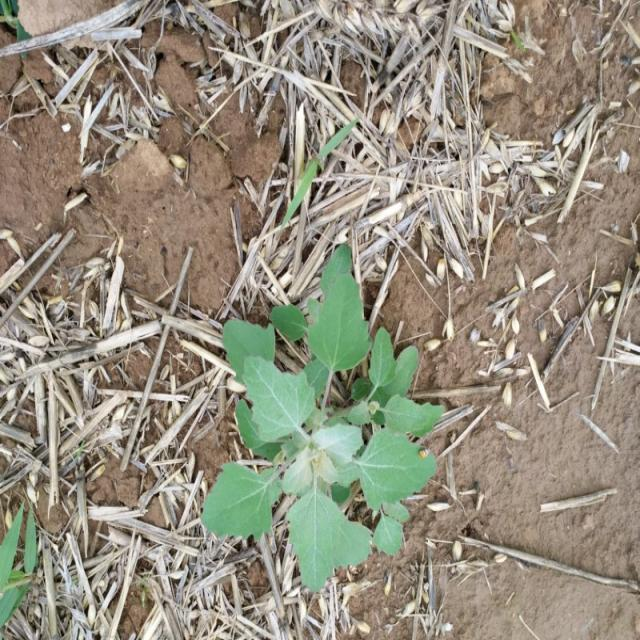goosefoots: (202, 267, 434, 590)
